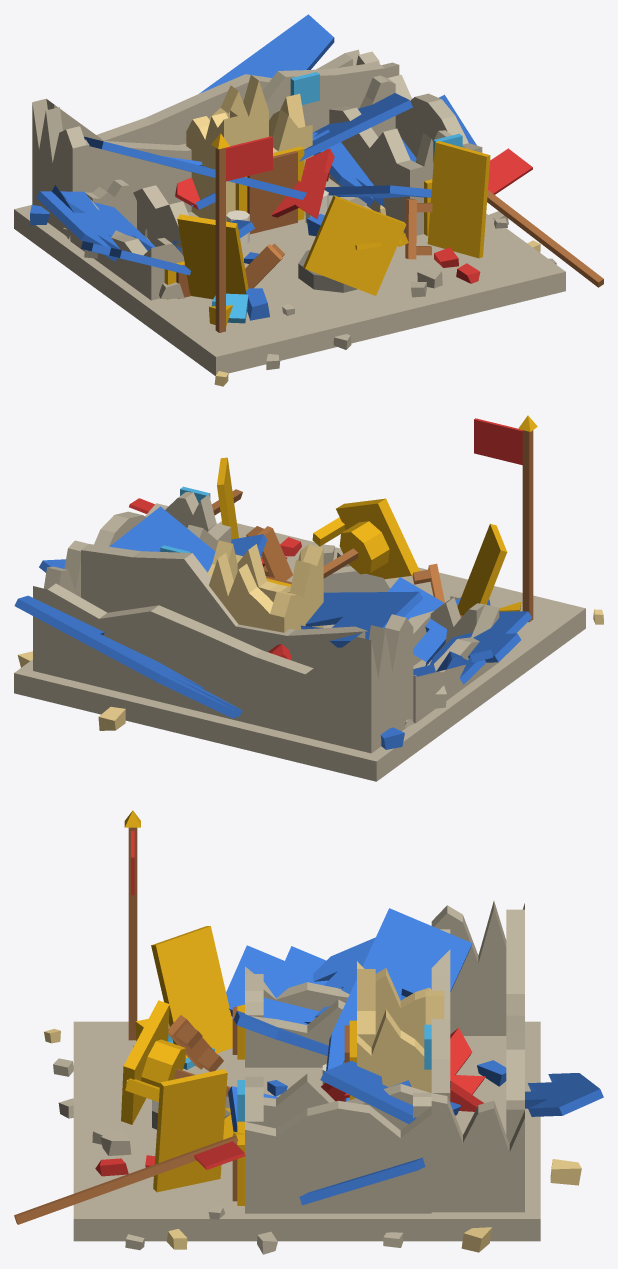
Rendered from university_t3_v1_dmg2.glb.
3 renders of one model, top to bottom at view 1: azimuth 30°, elevation 25°; view 2: azimuth 150°, elevation 25°; view 3: azimuth 270°, elevation 25°, orthographic. The views are drawn at different scales.
Parts seen in each view (by area): view 1: university_t3_v1_dmg2; view 2: university_t3_v1_dmg2; view 3: university_t3_v1_dmg2.
Boxes of the visible parts, x1,y1,x2,y2 form: university_t3_v1_dmg2: (14, 14, 603, 386); university_t3_v1_dmg2: (14, 415, 603, 781); university_t3_v1_dmg2: (14, 810, 603, 1254).
Bounding box in the file's own units: 0.8878 × 0.445 × 0.9476.
1 material, 1 textured.
